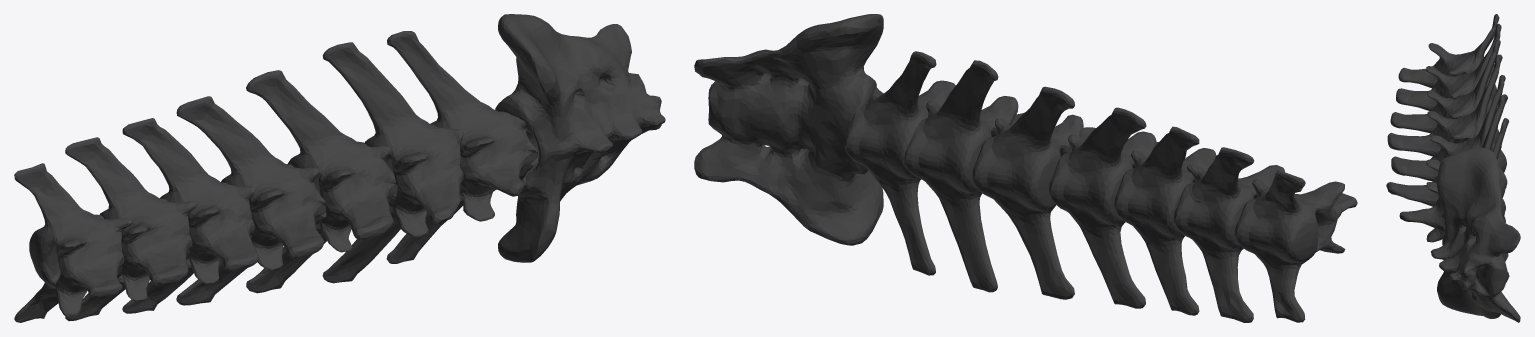
Rendered from Skeleton_18_LP.glb.
3 renders of one model, left to right at view 1: azimuth 30°, elevation 25°; view 2: azimuth 150°, elevation 25°; view 3: azimuth 270°, elevation 25°, orthographic. The views are drawn at different scales.
Visible parts, largest first — view 1: Skeleton_18_LP; view 2: Skeleton_18_LP; view 3: Skeleton_18_LP.
Part boxes in pixels (<box>): Skeleton_18_LP: <box>14,14,665,322</box>; Skeleton_18_LP: <box>694,14,1357,322</box>; Skeleton_18_LP: <box>1386,14,1520,322</box>.
Size of the model in its own units: 0.5074 by 0.1846 by 0.1334.
1 material, 1 textured.
